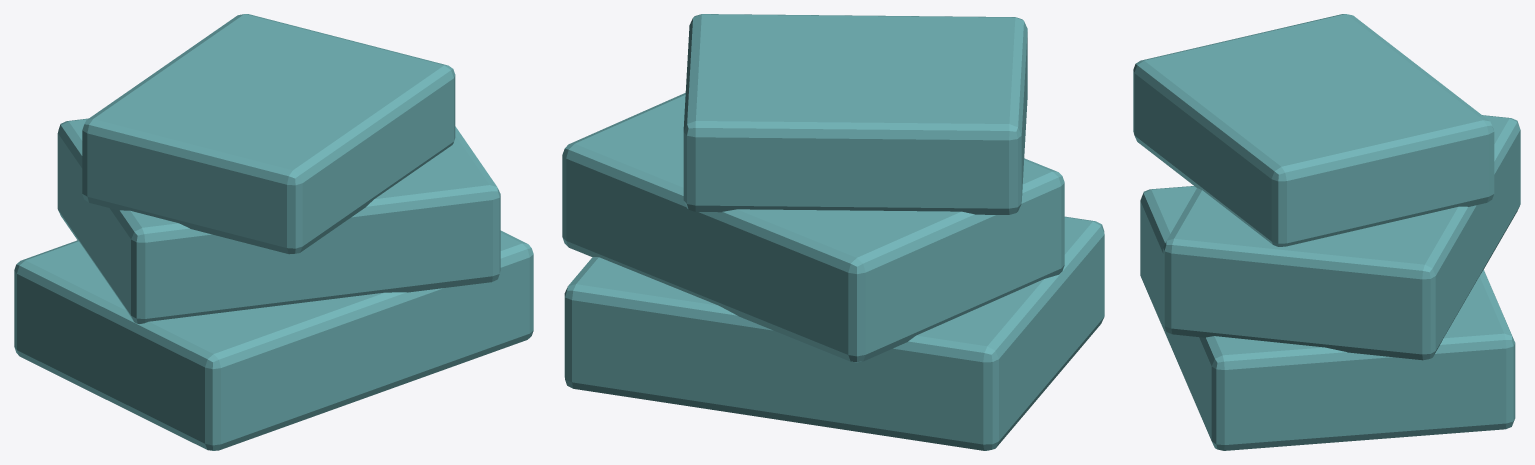
Rendered from LooseLaundry.fbx.
3 renders of one model, left to right at view 1: azimuth 30°, elevation 25°; view 2: azimuth 150°, elevation 25°; view 3: azimuth 270°, elevation 25°, orthographic. The views are drawn at different scales.
Visible parts, largest first — view 1: LooseLaundry; view 2: LooseLaundry; view 3: LooseLaundry.
Part boxes in pixels (bbox=[...]): LooseLaundry: bbox=[14, 14, 533, 450]; LooseLaundry: bbox=[562, 14, 1104, 450]; LooseLaundry: bbox=[1133, 14, 1520, 450].
Bounding box in the file's own units: 0.3317 × 0.205 × 0.2759.
